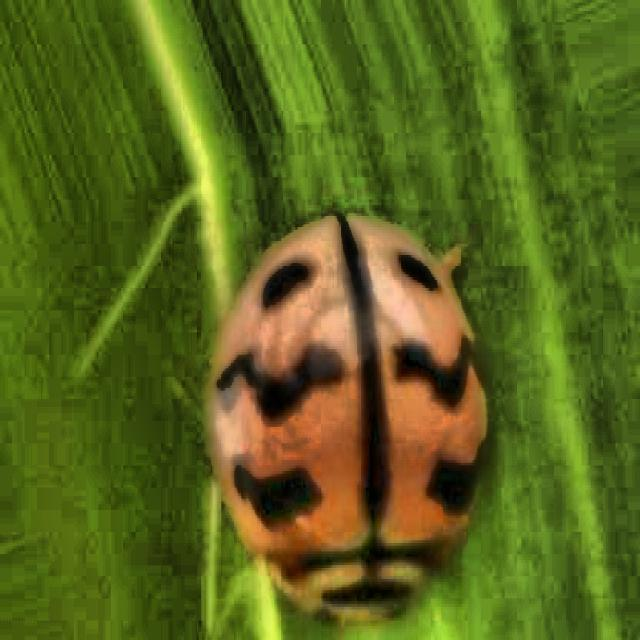Asian-Lady-beetle: (176, 173, 561, 640)
